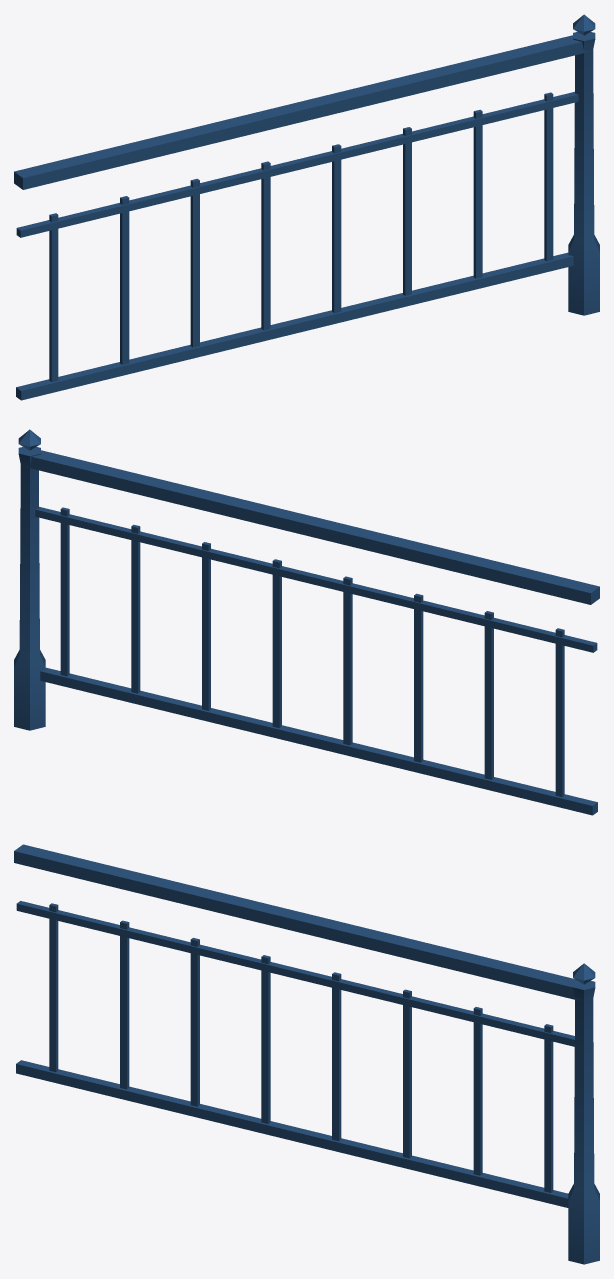
Rendered from SM_Prop_coast_promrail_0_LOD1.glb.
3 views of the same model, one above another, from view 1: azimuth 30°, elevation 25°; view 2: azimuth 150°, elevation 25°; view 3: azimuth 330°, elevation 25° (orthographic).
Parts seen in each view (by area): view 1: SM_Prop_coast_promrail_0_LOD1; view 2: SM_Prop_coast_promrail_0_LOD1; view 3: SM_Prop_coast_promrail_0_LOD1.
Boxes of the visible parts, left/top/right/bottom form: SM_Prop_coast_promrail_0_LOD1: left=14, top=14, right=599, bottom=400; SM_Prop_coast_promrail_0_LOD1: left=14, top=429, right=599, bottom=815; SM_Prop_coast_promrail_0_LOD1: left=14, top=844, right=599, bottom=1264.
Bounding box in the file's own units: 2.57 × 1.24 × 0.1212.
